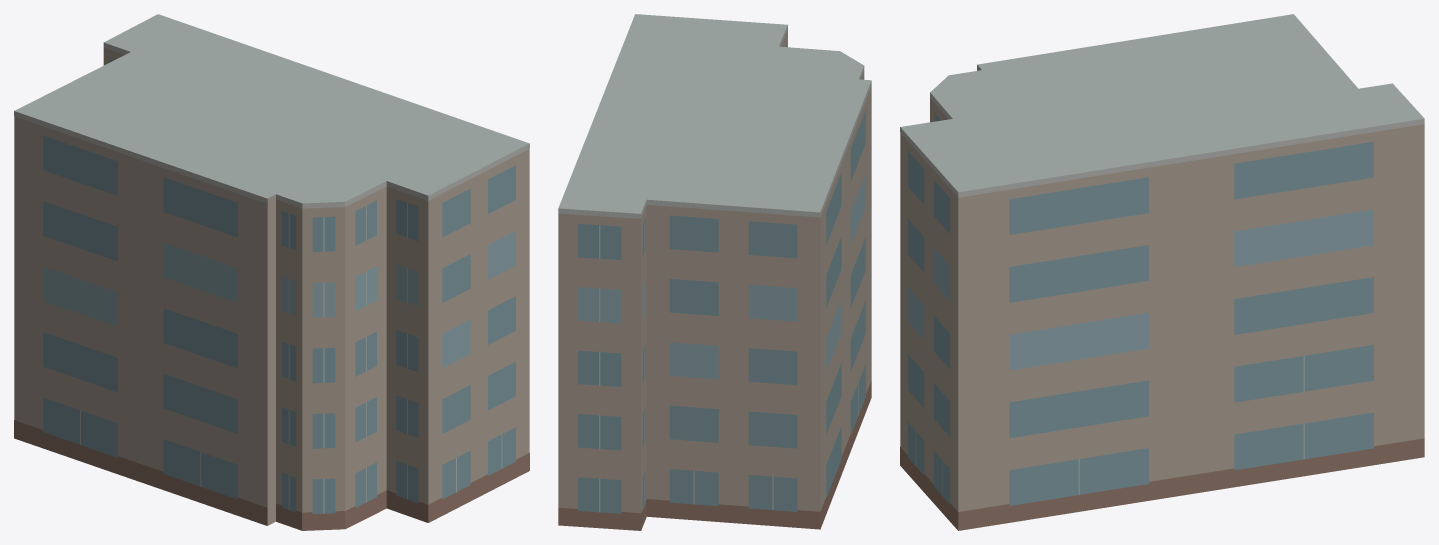
The model's file is survey-upis-32905051.glb.
3 views of the same model, side by side, from view 1: azimuth 30°, elevation 25°; view 2: azimuth 150°, elevation 25°; view 3: azimuth 270°, elevation 25° (orthographic). The views are drawn at different scales.
Parts seen in each view (by area): view 1: survey-upis-32905051.tmp; view 2: survey-upis-32905051.tmp; view 3: survey-upis-32905051.tmp.
Boxes of the visible parts, x1,y1,x2,y2 form: survey-upis-32905051.tmp: (14,14,529,530); survey-upis-32905051.tmp: (558,14,871,530); survey-upis-32905051.tmp: (900,14,1424,530).
Size of the model in its own units: 17.24 by 15.25 by 21.43.
